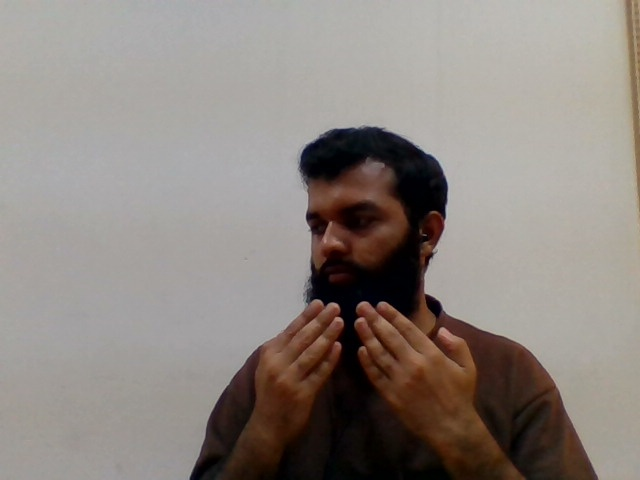Thank You: (238, 120, 496, 458)
